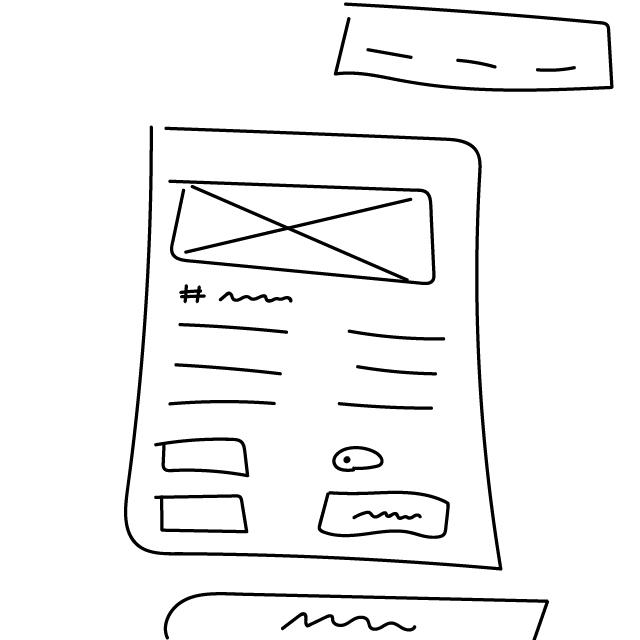button: (316, 489, 455, 544)
checkbox: (332, 442, 389, 475)
container: (119, 116, 517, 578)
footer: (152, 588, 560, 640)
frame: (164, 174, 442, 289)
heading: (172, 282, 298, 311)
input: (153, 435, 259, 481), (154, 492, 257, 536)
nav: (333, 2, 619, 99)
text: (162, 314, 291, 416), (334, 325, 449, 419)
